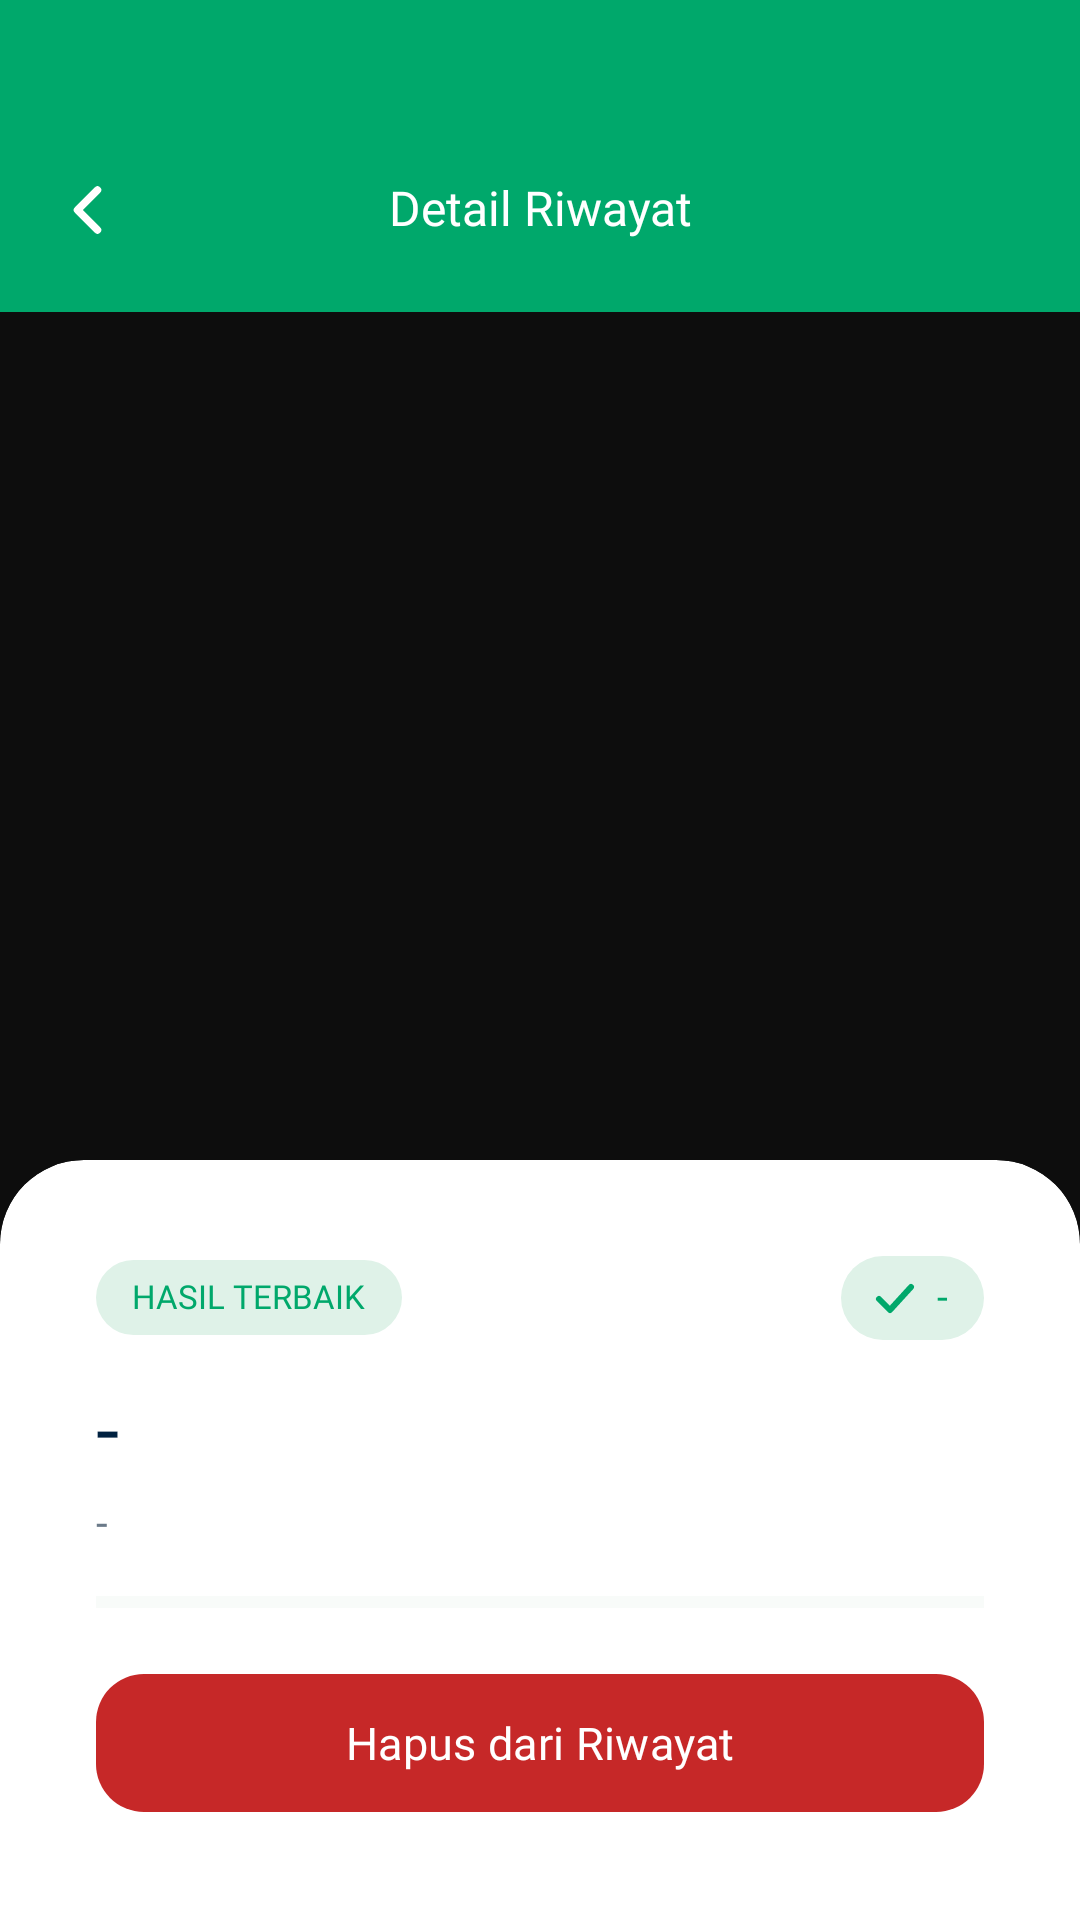

Icons on this 1080*1920 Android screen, each with its box as [x1=x1, y1=y1, x2=x2, y2=y2]:
check: [x1=876, y1=1284, x2=914, y2=1313]
Kembali: [x1=73, y1=186, x2=102, y2=234]
